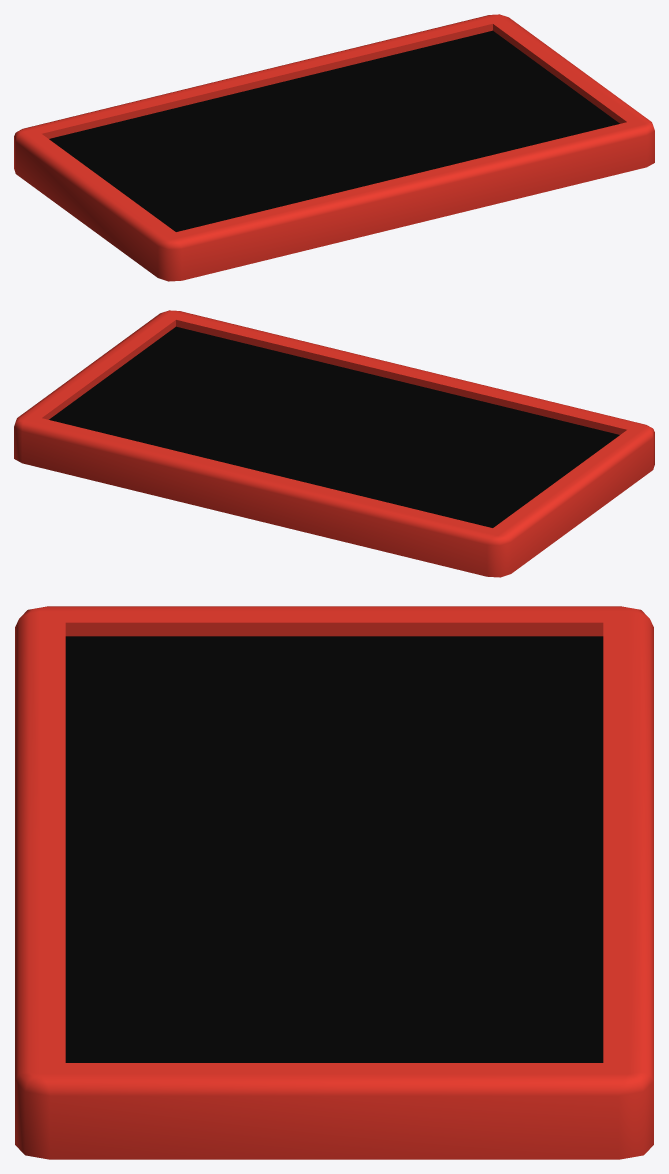
Rendered from Phone.fbx.
3 views of the same model, one above another, from view 1: azimuth 30°, elevation 25°; view 2: azimuth 150°, elevation 25°; view 3: azimuth 270°, elevation 25° (orthographic). The views are drawn at different scales.
Parts seen in each view (by area): view 1: Cube; view 2: Cube; view 3: Cube.
Boxes of the visible parts, x1,y1,x2,y2 form: Cube: [14, 14, 654, 281]; Cube: [14, 310, 654, 577]; Cube: [15, 606, 653, 1159].
Bounding box in the file's own units: 220 × 15.95 × 123.
